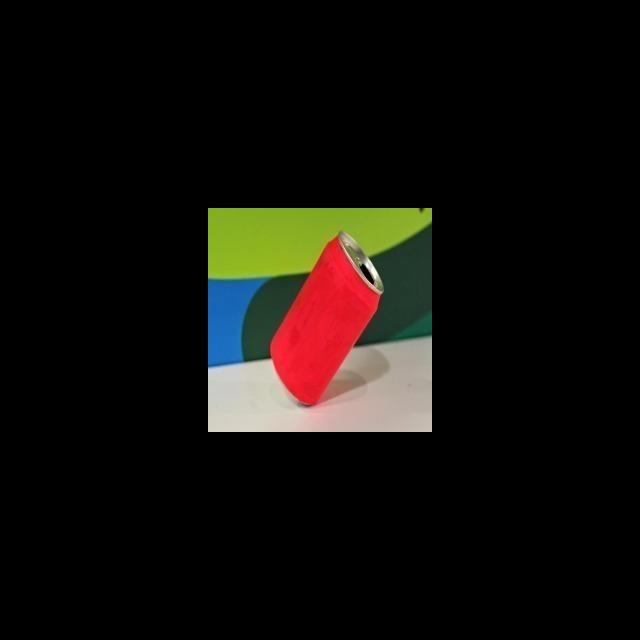metal: (267, 229, 387, 407)
